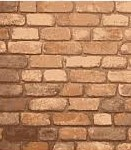brick: (56, 13, 99, 27), (52, 112, 93, 125), (70, 69, 107, 83), (89, 128, 128, 141), (43, 42, 82, 54), (30, 98, 66, 111), (4, 127, 35, 142), (30, 55, 63, 69), (21, 112, 52, 126), (41, 26, 71, 40), (83, 43, 120, 54), (1, 96, 28, 111), (92, 28, 123, 41), (37, 1, 73, 12), (66, 56, 101, 67), (76, 2, 114, 12), (24, 84, 62, 94), (60, 128, 89, 141), (9, 42, 42, 53), (69, 97, 99, 109), (102, 98, 131, 110), (87, 84, 116, 96), (26, 13, 54, 25), (101, 13, 129, 25), (1, 55, 28, 67), (12, 27, 39, 39), (44, 70, 69, 82), (36, 128, 59, 141), (21, 141, 52, 150), (1, 14, 25, 25), (105, 56, 127, 68), (63, 84, 86, 95), (1, 83, 22, 95), (1, 111, 19, 125), (22, 70, 43, 82), (109, 71, 131, 82), (94, 112, 114, 124), (1, 69, 19, 82), (78, 143, 113, 149), (72, 28, 90, 39), (1, 1, 17, 13), (19, 1, 36, 12), (116, 1, 131, 11), (1, 142, 19, 150), (55, 142, 73, 150), (117, 85, 131, 95), (116, 114, 131, 123), (123, 42, 131, 55), (1, 27, 10, 38), (124, 28, 131, 41), (116, 144, 131, 149), (1, 40, 7, 49)
